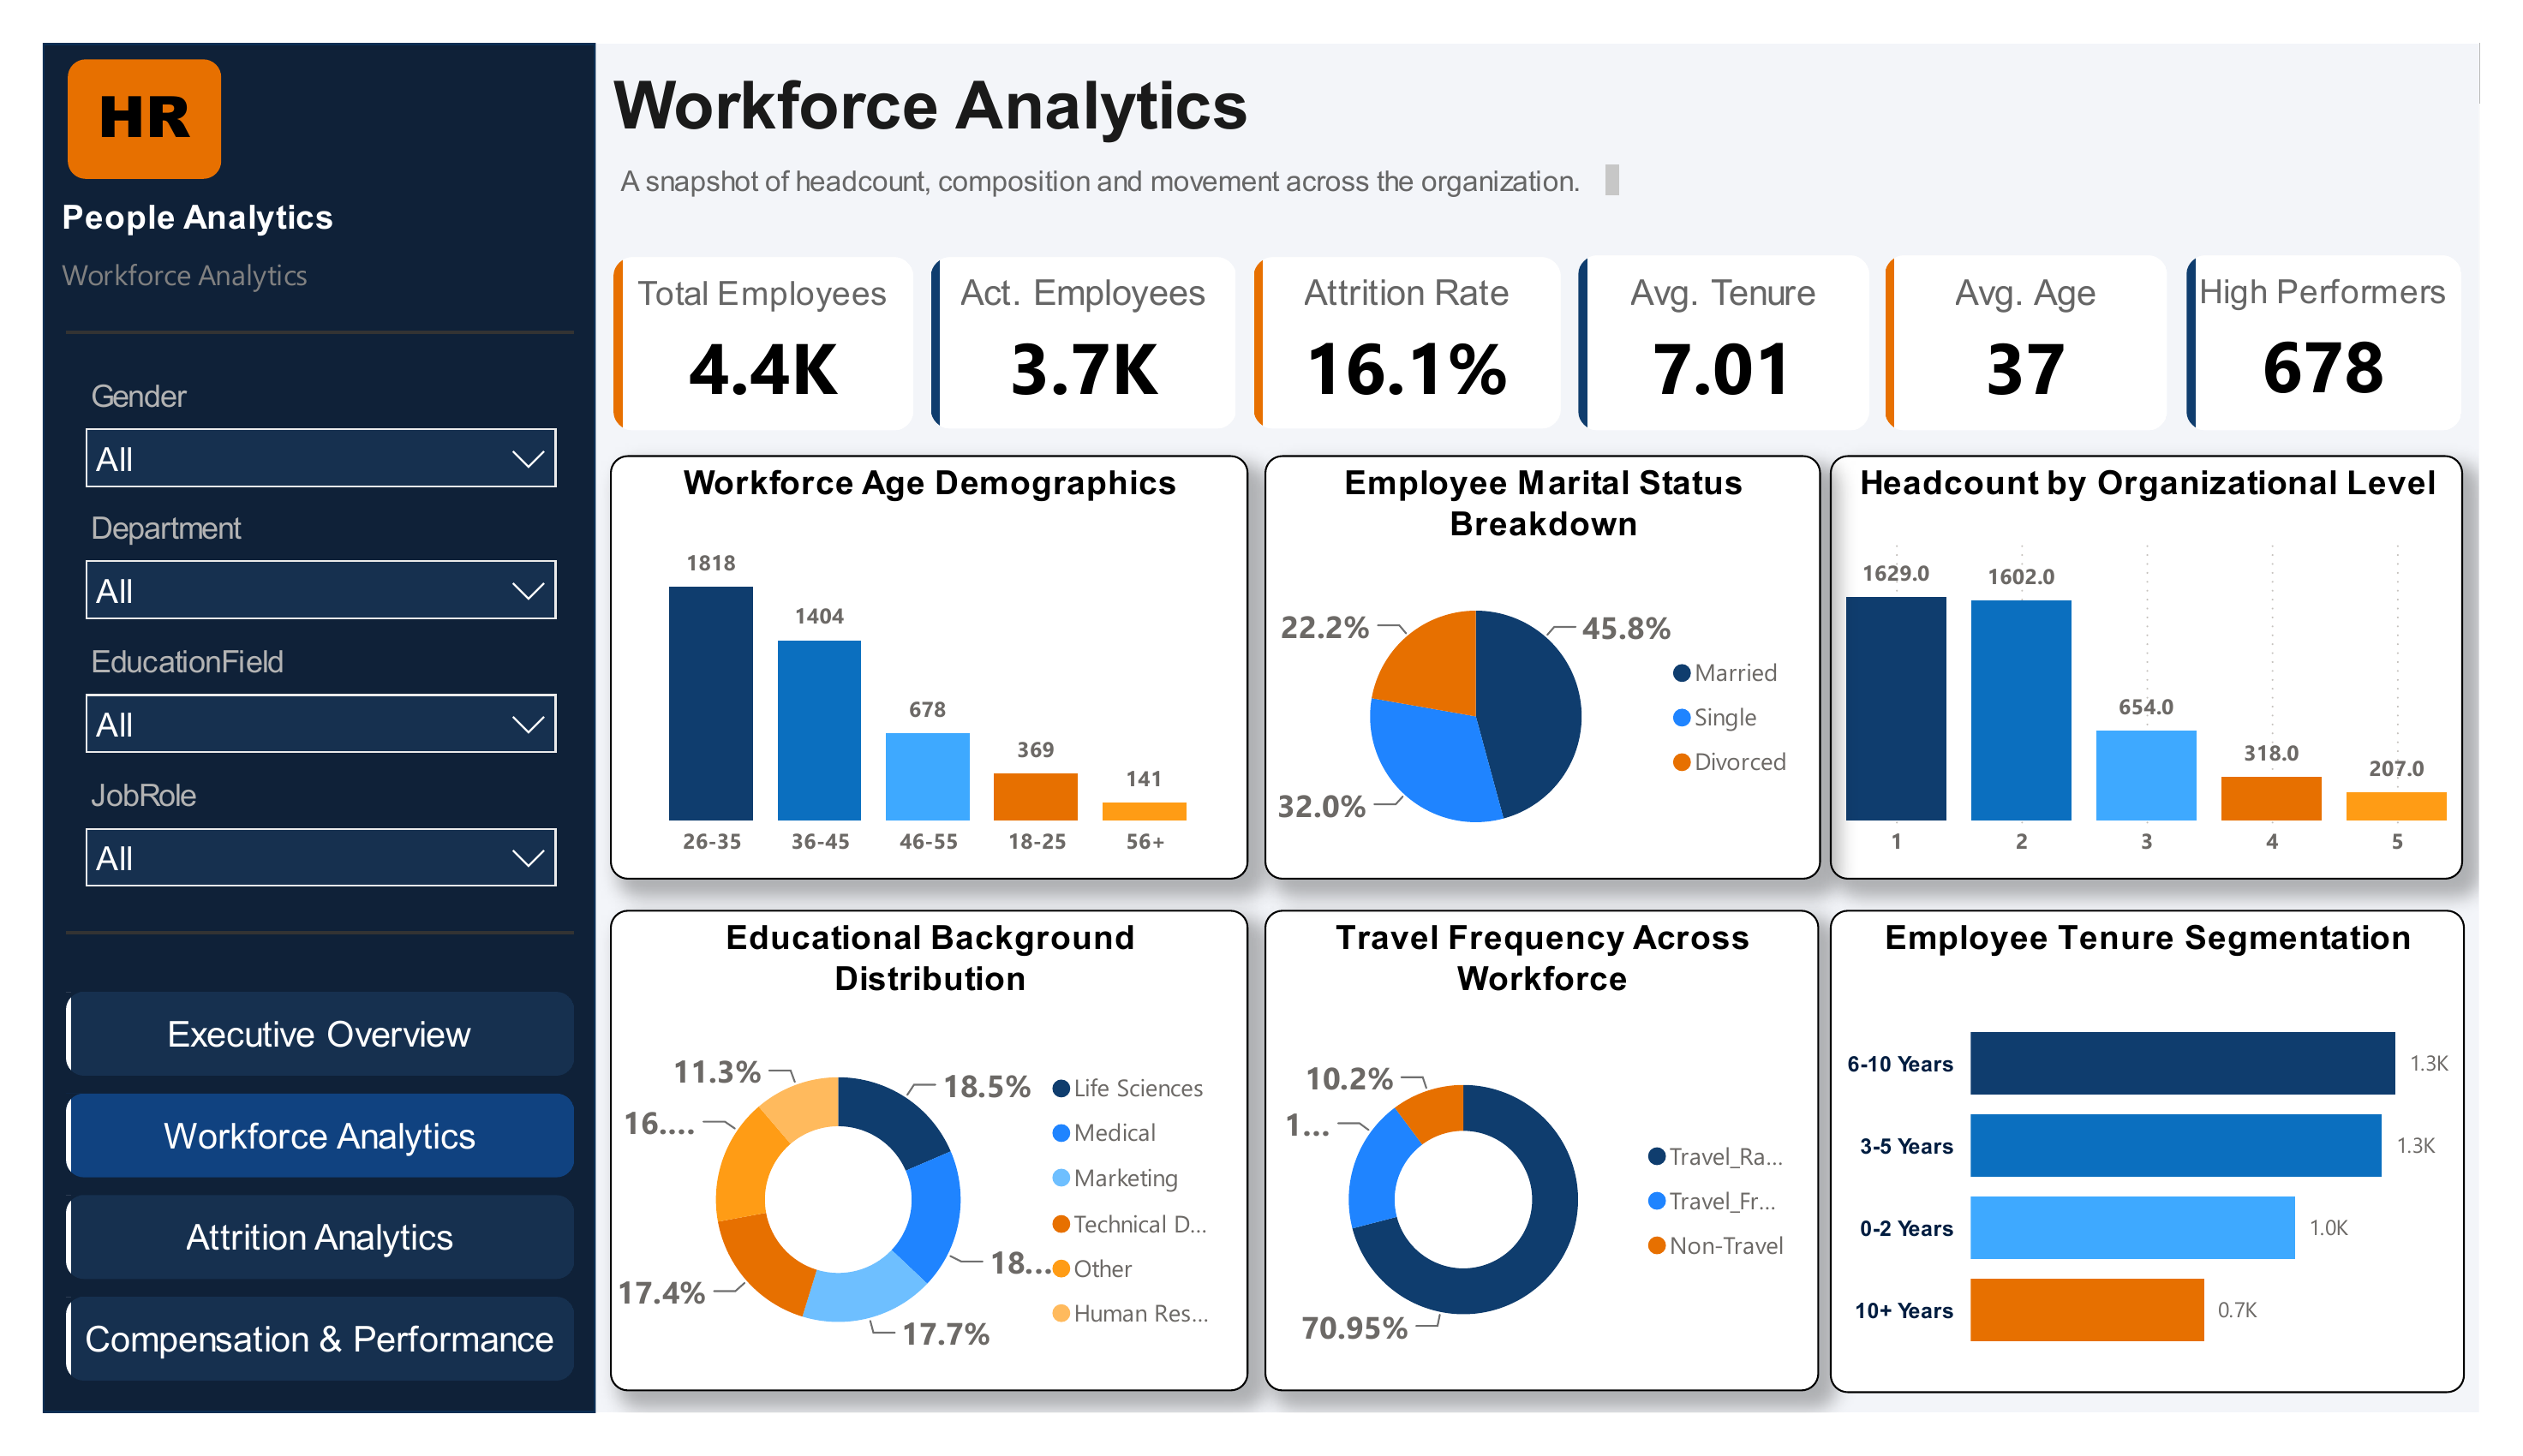

The page's visual inventory and layout, read from the dashboard file:
{"tool":"powerbi","page":{"name":"Workforce Analytics","canvas":[1366,768],"ordinal":1},"visuals":[{"type":"shape","box":[0,0,310,768.3],"z":0},{"type":"clusteredColumnChart","title":"Workforce Age Demographics","fields":{"Category":["EmployeeData.Age Group"],"Y":["Measuress.Total Employees"]},"box":[317.5,231.5,357.5,238],"z":0,"group":"g2"},{"type":"donutChart","title":"Educational Background Distribution","fields":{"Category":["Employee Data.EducationField"],"Y":["Measuress.Total Employees"]},"box":[317.5,486.5,357.5,270.1],"z":1000,"group":"g2"},{"type":"pageNavigator","box":[13.3,531.7,285,218.3],"z":1000},{"type":"group","id":"g1","title":"Group 2","box":[13.6,184.4,284.2,302.4],"z":2000},{"type":"columnChart","title":"Headcount by Organizational Level","fields":{"Y":["Measuress.Total Employees"],"Category":["EmployeeData.JobLevel"]},"box":[1001.8,231.5,354.3,238],"z":2000,"group":"g2"},{"type":"textbox","box":[13.6,9.1,86.2,66.5],"z":3000},{"type":"donutChart","title":"Travel Frequency Across Workforce","fields":{"Category":["EmployeeData.BusinessTravel"],"Y":["Measuress.Total Employees"]},"box":[684.7,486.6,310.6,269.4],"z":3000,"group":"g2"},{"type":"textbox","box":[6,81,177.3,33.3],"z":4000},{"type":"barChart","title":"Employee Tenure Segmentation","fields":{"Y":["Measuress.Total Employees"],"Category":["EmployeeData.Tenure Group"]},"box":[1001.8,486.1,355.7,271.3],"z":4000,"group":"g2"},{"type":"shape","box":[13.3,150,284.4,24.4],"z":5000},{"type":"pieChart","title":"Employee Marital Status Breakdown","fields":{"Category":["EmployeeData.MaritalStatus"],"Y":["Measuress.Total Employees"]},"box":[684.7,231.2,311.3,238],"z":5000,"group":"g2"},{"type":"slicer","fields":{"Values":["EmployeeData.Department"]},"box":[13.6,258.1,284.5,72.3],"z":5000,"group":"g1"},{"type":"textbox","box":[6,114,251,36],"z":6000},{"type":"slicer","fields":{"Values":["EmployeeData.Gender"]},"box":[13.6,184.4,284.5,73.7],"z":7000,"group":"g1"},{"type":"shape","box":[13.3,486.7,284.4,24.4],"z":7000},{"type":"textbox","box":[315,8.3,573.3,55],"z":8000},{"type":"textbox","box":[318.8,62.5,570,28.8],"z":9000},{"type":"slicer","fields":{"Values":["EmployeeData.JobRole"]},"box":[13.6,408.3,284.5,78],"z":9000,"group":"g1"},{"type":"group","id":"g2","title":"Group 3","box":[317.5,231.2,1040,526.2],"z":10000},{"type":"cardVisual","title":"Total Employees","fields":{"Data":["Measuress.Total Employees"]},"box":[315.4,114.6,177.7,106.9],"z":11000},{"type":"slicer","fields":{"Values":["EmployeeData.EducationField"]},"box":[13.6,333.2,284.5,75.1],"z":11000,"group":"g1"},{"type":"cardVisual","title":"Avearage Tenure","fields":{"Data":["Measuress.Average Tenure"]},"box":[855.8,114.2,173.3,107.5],"z":12000},{"type":"cardVisual","title":"Active Employees","fields":{"Data":["Measuress.Active Employees"]},"box":[492.9,114.9,181.4,105.8],"z":13000},{"type":"cardVisual","title":"Attrition Rate","fields":{"Data":["Measuress.Attrition Rate"]},"box":[674.3,114.9,181.4,105.8],"z":14000},{"type":"cardVisual","title":"Average Age","fields":{"Data":["Measuress.Average Age"]},"box":[1028.3,114.2,167.5,107.5],"z":15000},{"type":"cardVisual","title":"High Performers","fields":{"Data":["Measuress.High Performers"]},"box":[1196.7,114.2,164.2,107.5],"z":16000}]}

Visuals, with their boxes on the page's 1366x768 design canvas (x1, y1, x2, y2). These are canvas units, not pixel positions in the 2523x1456 screenshot, which may show the page scaled, cropped or inside an application window:
shape: x1=0, y1=0, x2=310, y2=768
"Workforce Age Demographics" clusteredColumnChart: x1=318, y1=232, x2=675, y2=470
"Educational Background Distribution" donutChart: x1=318, y1=486, x2=675, y2=757
pageNavigator: x1=13, y1=532, x2=298, y2=750
"Group 2" group: x1=14, y1=184, x2=298, y2=487
"Headcount by Organizational Level" columnChart: x1=1002, y1=232, x2=1356, y2=470
textbox: x1=14, y1=9, x2=100, y2=76
"Travel Frequency Across Workforce" donutChart: x1=685, y1=487, x2=995, y2=756
textbox: x1=6, y1=81, x2=183, y2=114
"Employee Tenure Segmentation" barChart: x1=1002, y1=486, x2=1358, y2=757
shape: x1=13, y1=150, x2=298, y2=174
"Employee Marital Status Breakdown" pieChart: x1=685, y1=231, x2=996, y2=469
slicer - EmployeeData.Department: x1=14, y1=258, x2=298, y2=330
textbox: x1=6, y1=114, x2=257, y2=150
slicer - EmployeeData.Gender: x1=14, y1=184, x2=298, y2=258
shape: x1=13, y1=487, x2=298, y2=511
textbox: x1=315, y1=8, x2=888, y2=63
textbox: x1=319, y1=62, x2=889, y2=91
slicer - EmployeeData.JobRole: x1=14, y1=408, x2=298, y2=486
"Group 3" group: x1=318, y1=231, x2=1358, y2=757
"Total Employees" cardVisual: x1=315, y1=115, x2=493, y2=222
slicer - EmployeeData.EducationField: x1=14, y1=333, x2=298, y2=408
"Avearage Tenure" cardVisual: x1=856, y1=114, x2=1029, y2=222
"Active Employees" cardVisual: x1=493, y1=115, x2=674, y2=221
"Attrition Rate" cardVisual: x1=674, y1=115, x2=856, y2=221
"Average Age" cardVisual: x1=1028, y1=114, x2=1196, y2=222
"High Performers" cardVisual: x1=1197, y1=114, x2=1361, y2=222
